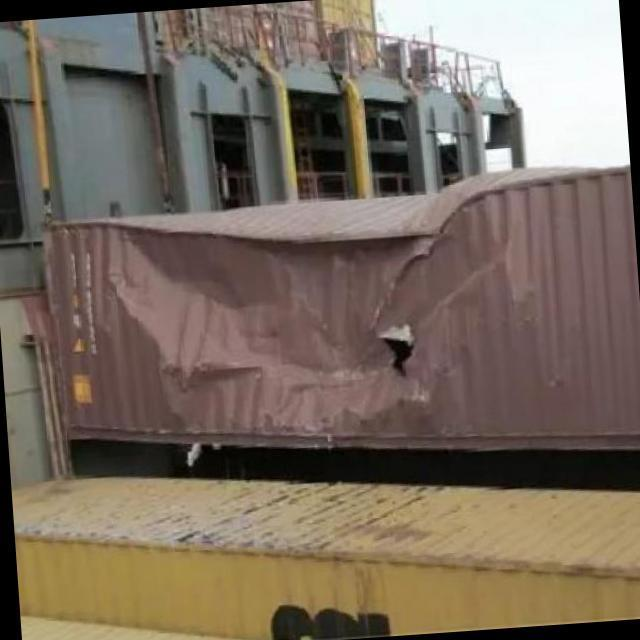hole: (381, 334, 420, 381)
